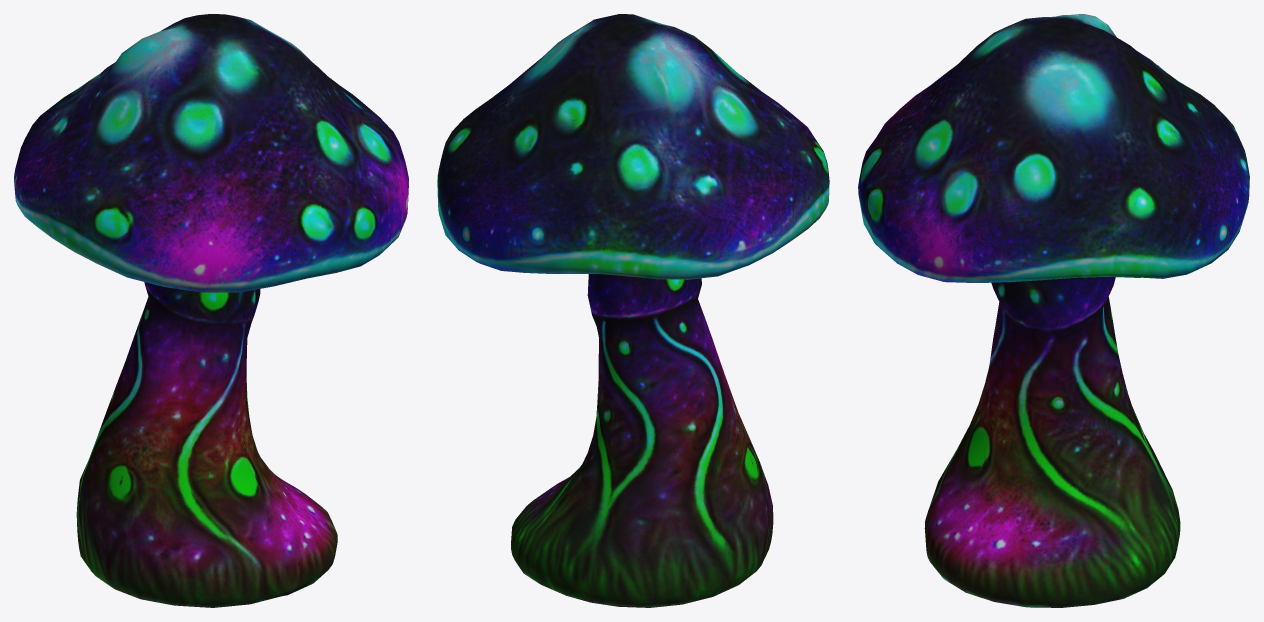
Rendered from 85d663a9bf43_magical_glowing_mus.fbx.
The picture shows the model from 3 angles, left to right: view 1: azimuth 30°, elevation 25°; view 2: azimuth 150°, elevation 25°; view 3: azimuth 270°, elevation 25°; orthographic projection.
Visible parts, largest first — view 1: mesh; view 2: mesh; view 3: mesh.
Part boxes in pixels (bbox=[...]): mesh: bbox=[14, 14, 408, 607]; mesh: bbox=[437, 14, 829, 607]; mesh: bbox=[858, 14, 1249, 607].
Bounding box in the file's own units: 66.73 × 99.94 × 66.26.
